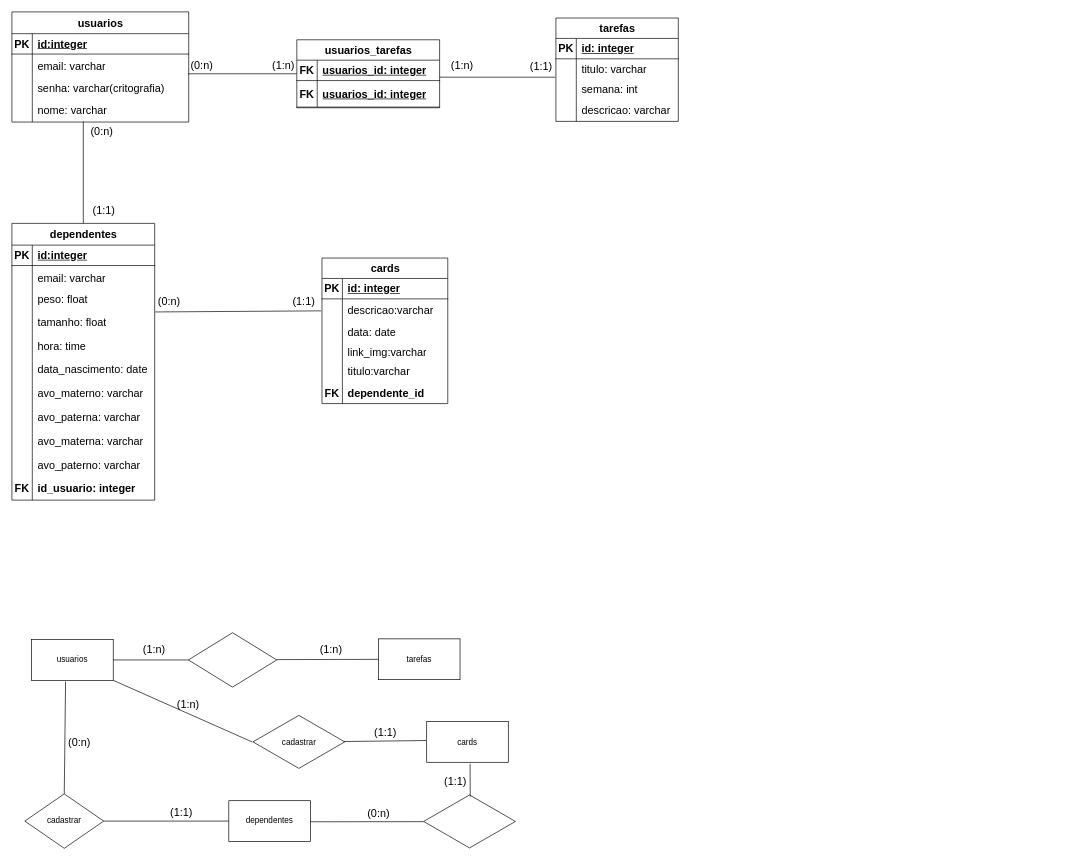
This 1077x861 diagram has some shape labels left out. The centre of each missing label's shape, as x and y in pixels:
executa: the point at 232,659
possui: the point at 469,821
